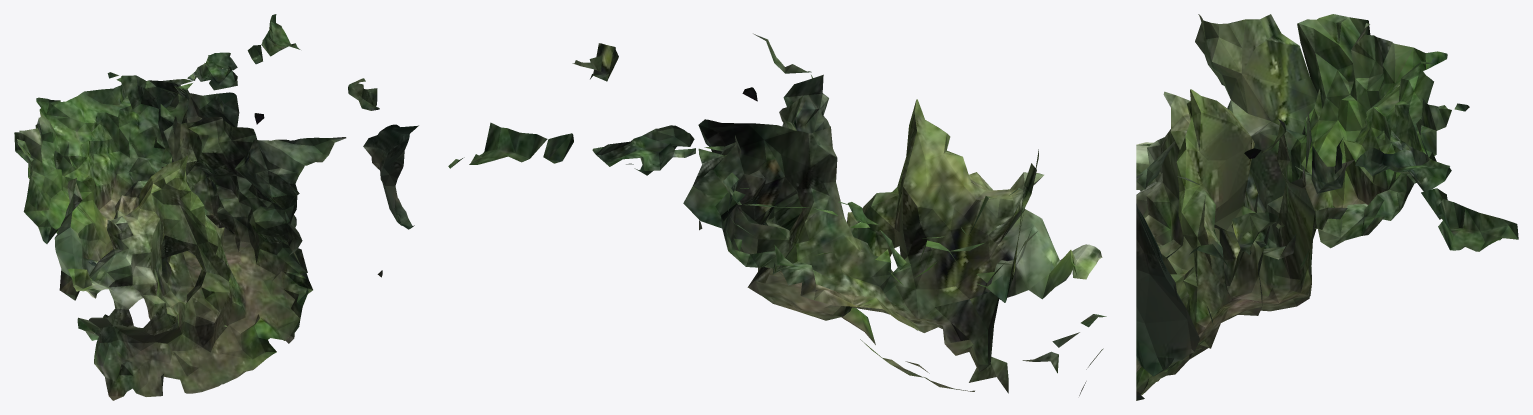
3 views of the same model, side by side, from view 1: azimuth 30°, elevation 25°; view 2: azimuth 150°, elevation 25°; view 3: azimuth 270°, elevation 25° (orthographic). The views are drawn at different scales.
Bounding box in the file's own units: 26.11 × 16.77 × 19.85.
4 materials, 4 textured.
